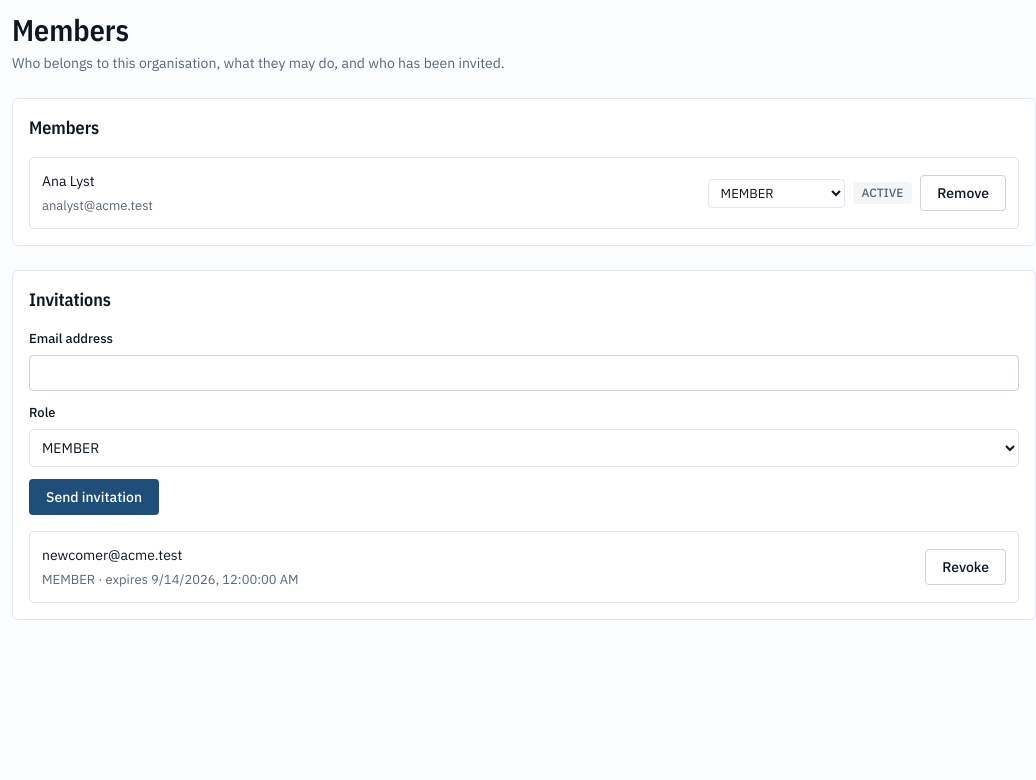
it: MembersScreen — the writes › renders a server refusal the permission set did not predict
This screenshot has width=1036, height=780.
Expected: the text "analyst@acme.test" is shown, [42, 196, 153, 216]
Select "OWNER" in the dropdown named "Role for analyst@acme.test" at {"x": 776, "y": 193}, box [708, 178, 845, 208]
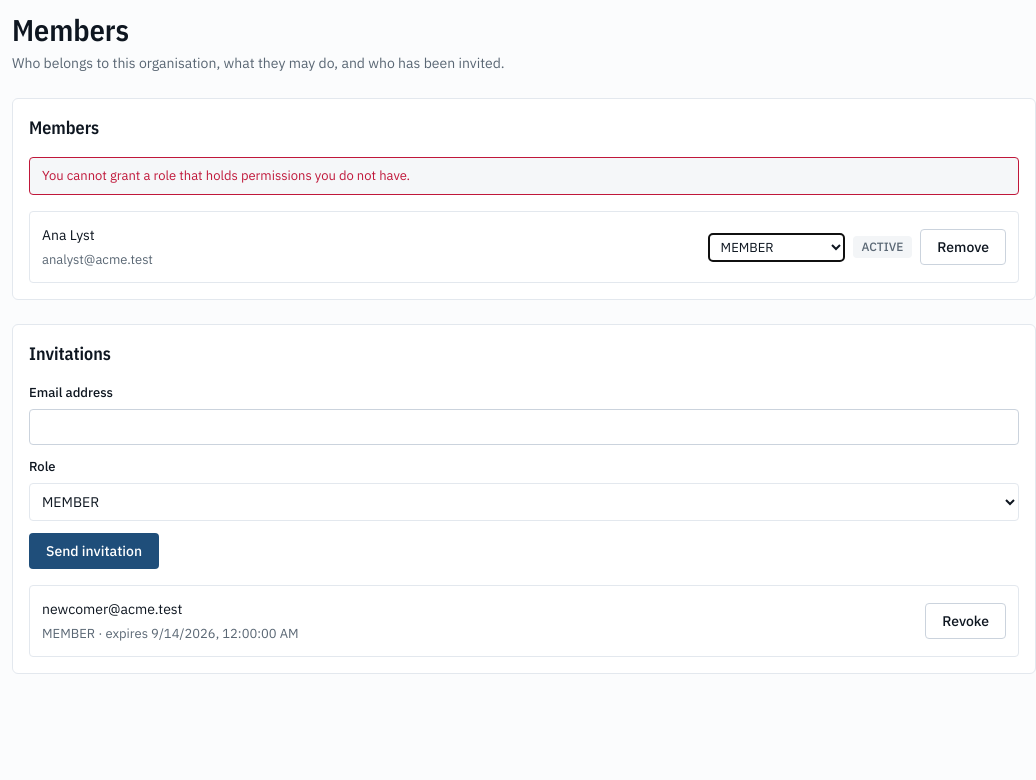
Result: the text "You cannot grant a role that holds permissions you do not have." is shown at [42, 166, 410, 186]
